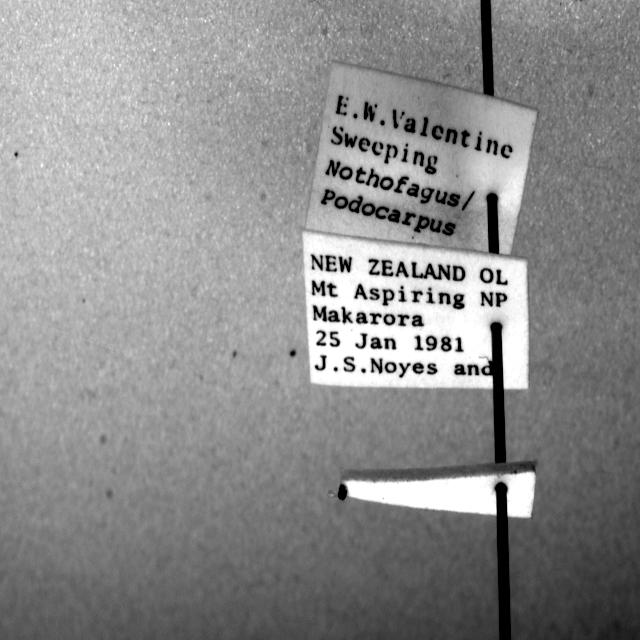typed_label: (306, 62, 538, 255), (302, 231, 529, 390)
